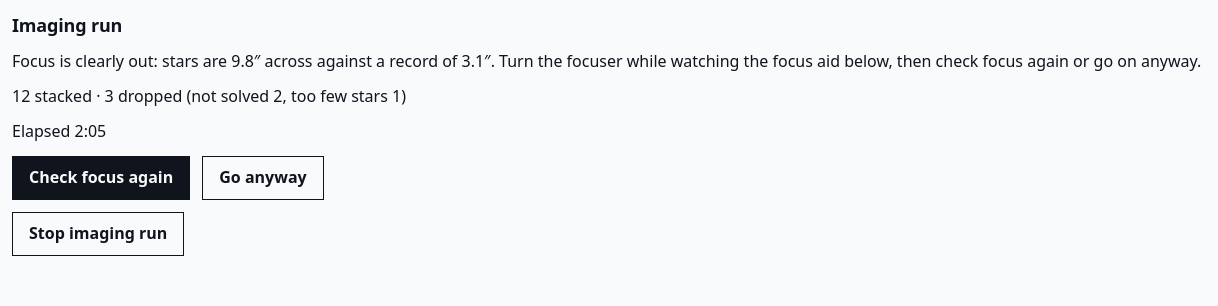
Test: US9-S10: a pause request's own alert and pending buttons › shows refusal as a second alert without refreshing and clears it when state changes
Click the button "Check focus again" at (101, 178), box [12,156,190,200]
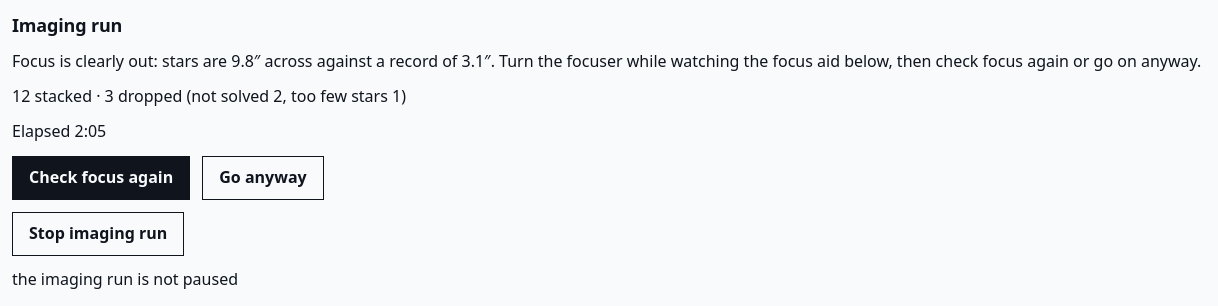
Result: the text "the imaging run is not paused" is shown at [12,268,238,290]
Result: the messages read "Focus is clearly out: stars are 9.8″ across against a record of 3.1″. Turn the focuser while watching the focus aid below, then check focus again or go on anywa", "the imaging run is not paused", in this order at [12,50,1201,72]; [12,268,238,290]
